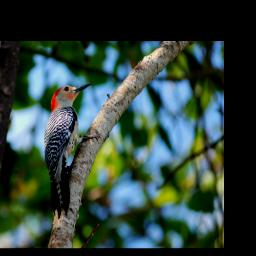Woodpecker: (44, 84, 100, 219)
